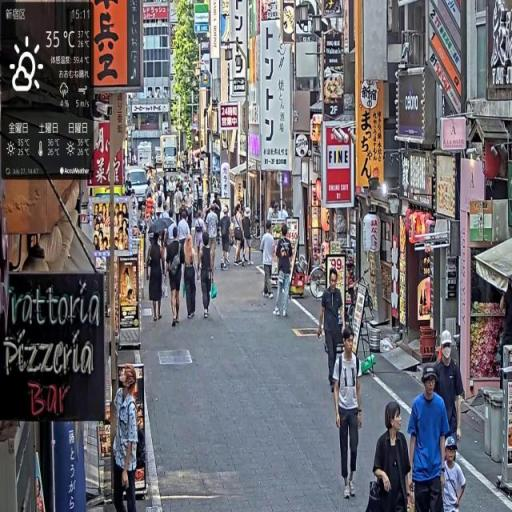person: (407, 367, 451, 512), (334, 325, 365, 506), (370, 399, 413, 512), (432, 333, 468, 459), (112, 362, 139, 512), (318, 267, 346, 393), (442, 438, 467, 512), (167, 228, 185, 328), (147, 234, 166, 324), (182, 236, 200, 323), (199, 235, 216, 320), (261, 222, 276, 299), (221, 207, 233, 273)
